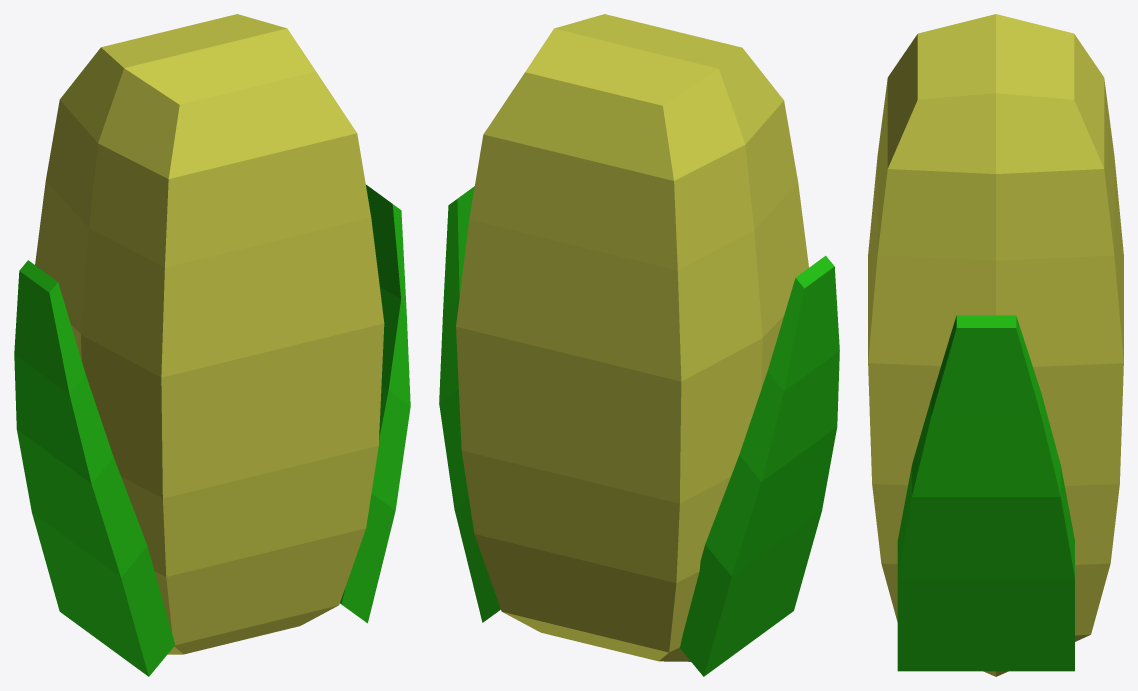
Rendered from corn.fbx.
3 renders of one model, left to right at view 1: azimuth 30°, elevation 25°; view 2: azimuth 150°, elevation 25°; view 3: azimuth 270°, elevation 25°, orthographic.
Visible parts, largest first — view 1: Corn; view 2: Corn; view 3: Corn.
Part boxes in pixels (bbox=[...]): Corn: bbox=[14, 14, 410, 676]; Corn: bbox=[439, 14, 839, 676]; Corn: bbox=[868, 14, 1123, 676].
Bounding box in the file's own units: 0.6312 × 1.01 × 0.3996.
